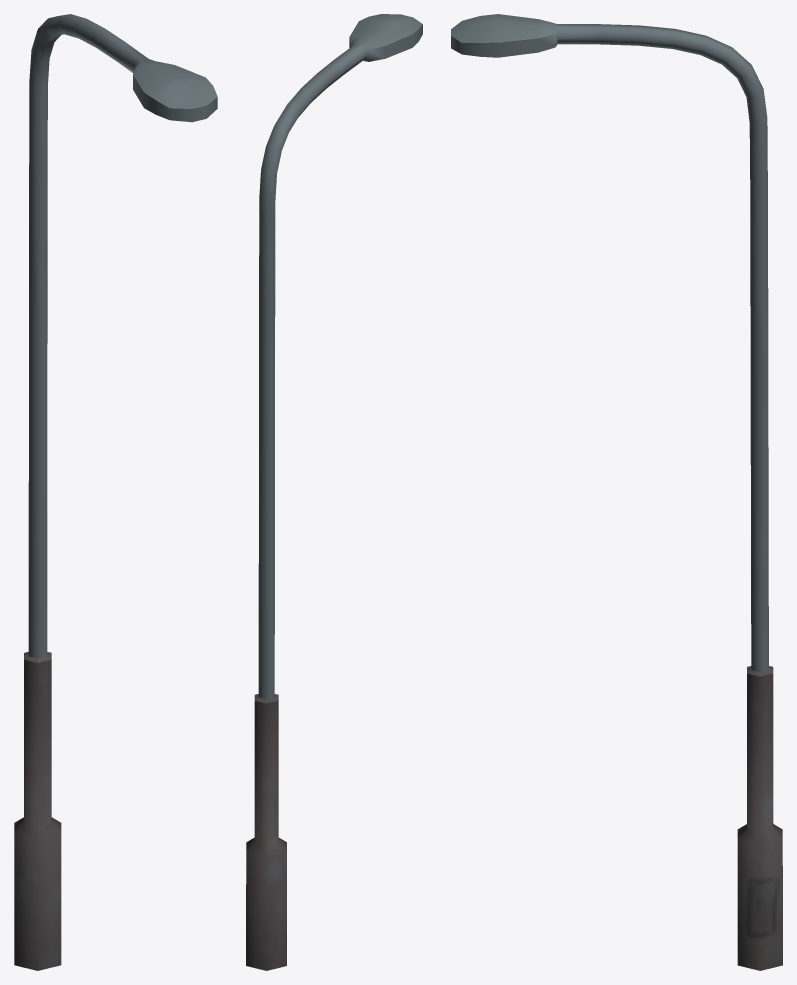
The model's file is lamppost.fbx.
The picture shows the model from 3 angles, left to right: view 1: azimuth 30°, elevation 25°; view 2: azimuth 150°, elevation 25°; view 3: azimuth 270°, elevation 25°; orthographic projection. The views are drawn at different scales.
Visible parts, largest first — view 1: lamppost_LOD0; view 2: lamppost_LOD0; view 3: lamppost_LOD0.
Part boxes in pixels (bbox=[...]): lamppost_LOD0: bbox=[14, 14, 217, 970]; lamppost_LOD0: bbox=[246, 14, 422, 970]; lamppost_LOD0: bbox=[451, 14, 782, 970].
Size of what is drawn, in the model's own units: 40 by 607 by 195.
Materials: 1 (1 with a texture image).
